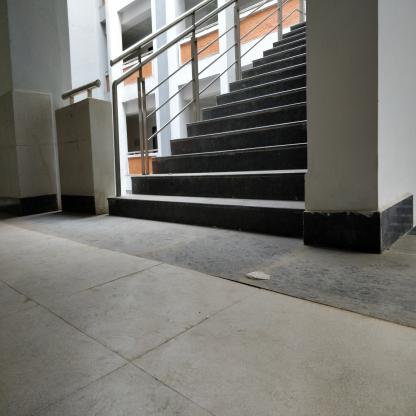stairs: (249, 54, 305, 248)
